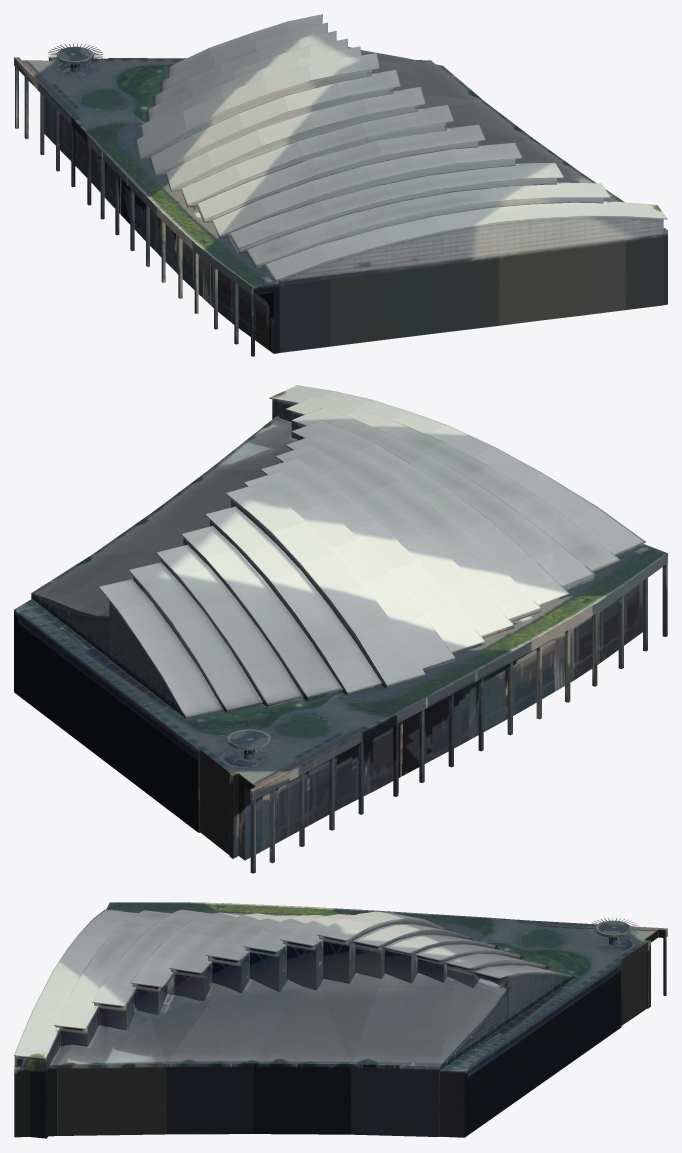
3 views of the same model, one above another, from view 1: azimuth 30°, elevation 25°; view 2: azimuth 150°, elevation 25°; view 3: azimuth 270°, elevation 25° (orthographic). The views are drawn at different scales.
Visible parts, largest first — view 1: 9_0.glb; view 2: 9_0.glb; view 3: 9_0.glb.
Part boxes in pixels (x1,y1,x2,y2): 9_0.glb: (14,14,667,356); 9_0.glb: (14,385,667,873); 9_0.glb: (14,902,667,1138).
Bounding box in the file's own units: 116 × 45.23 × 187.
Materials: 1 (1 with a texture image).
